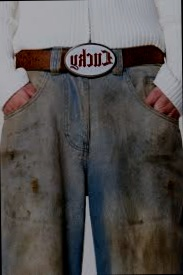earth: (142, 230, 180, 273), (166, 179, 183, 201), (29, 175, 39, 194), (4, 148, 16, 163)
